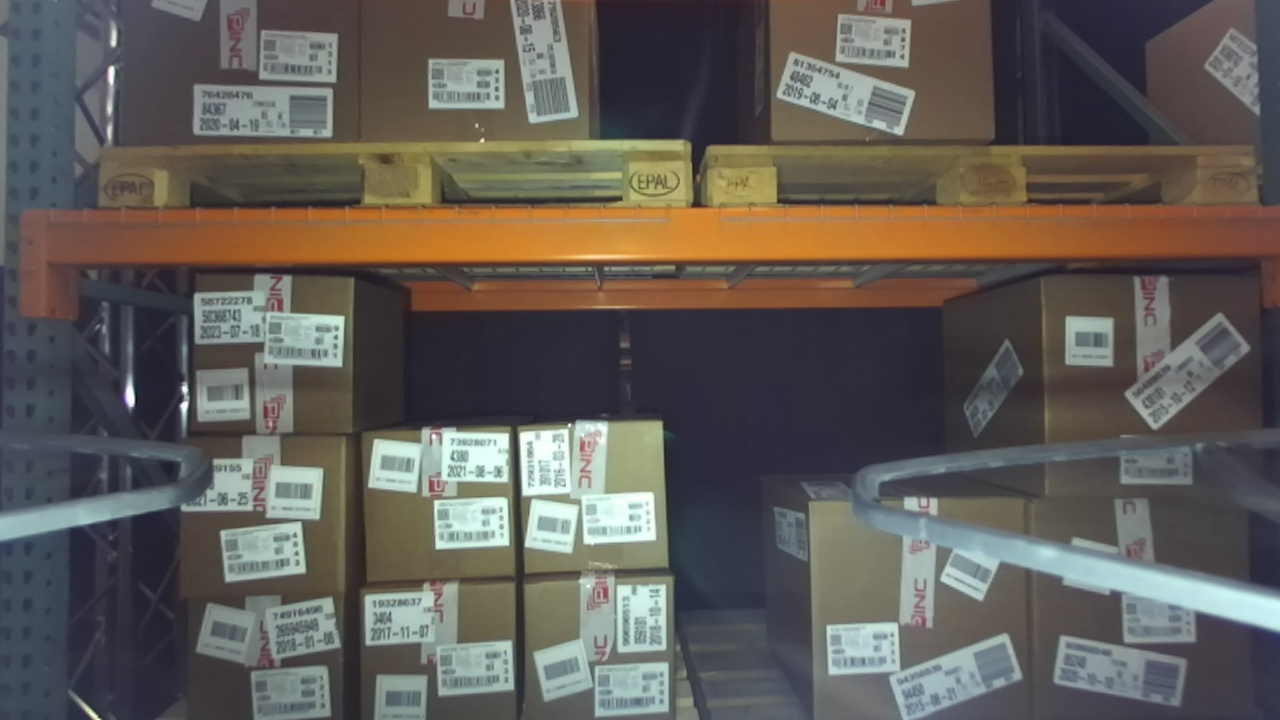box: (1006, 474, 1271, 720), (1016, 254, 1275, 499), (791, 485, 1045, 716), (100, 1, 378, 170), (741, 1, 1012, 160), (342, 2, 610, 162), (165, 415, 369, 609), (176, 260, 372, 456), (349, 410, 535, 593), (502, 411, 684, 592), (501, 559, 689, 720), (339, 571, 540, 718), (163, 581, 376, 713)
